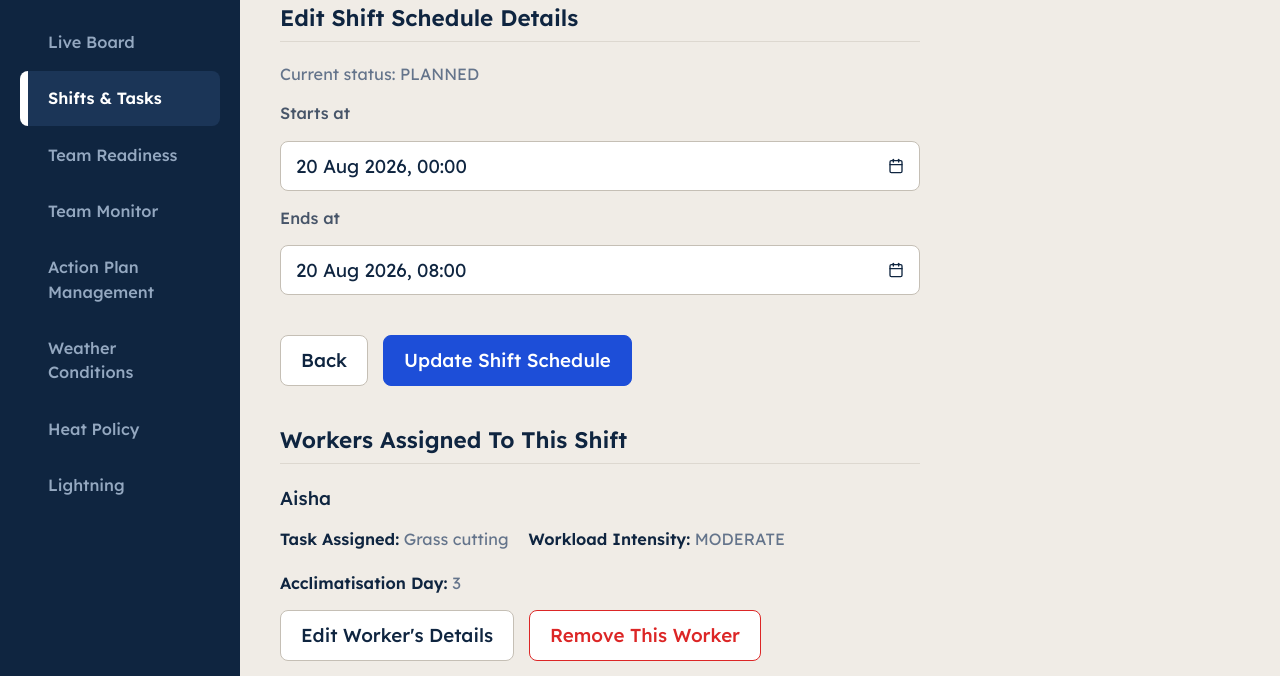
EditShiftForm › edits a row and PATCHes the full trio (task + intensity + accl), never a partial that wipes
Click the button "Edit Worker's Details" at (397, 635), box [280,610,514,660]
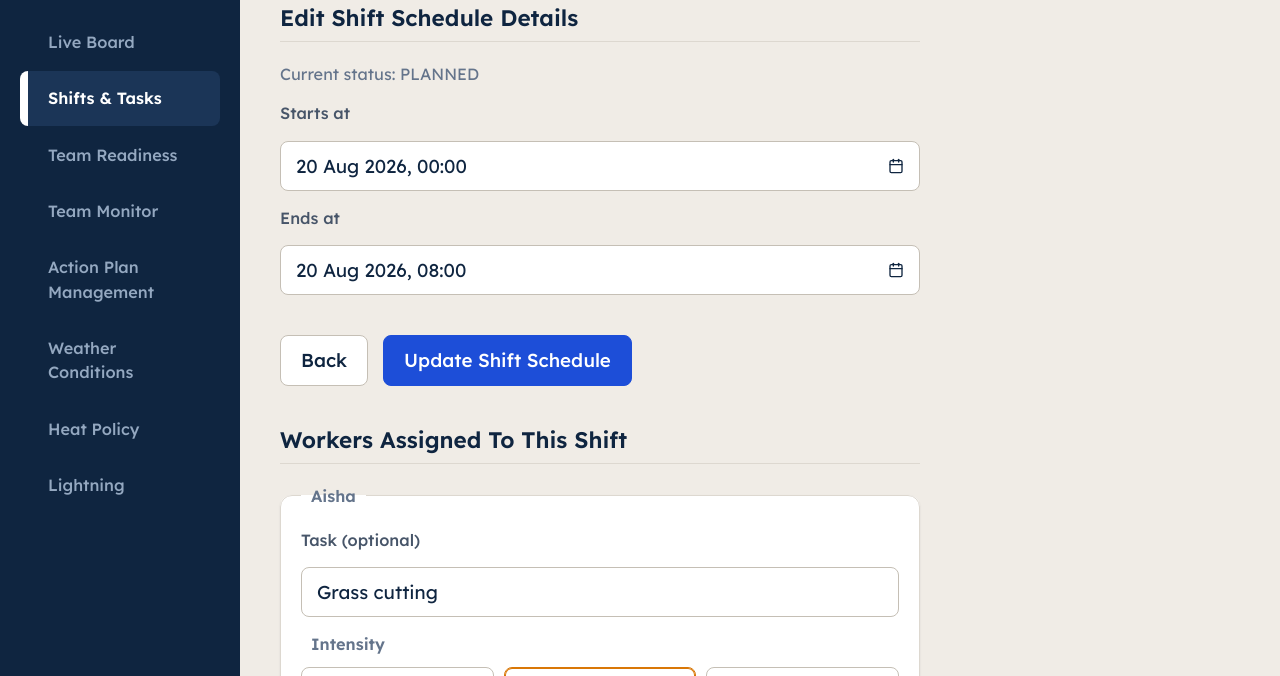
Replace the text in the field labelled "Task (optional)" with "Tree pruning" at (600, 592), box [301,567,899,617]
(page scrolled)
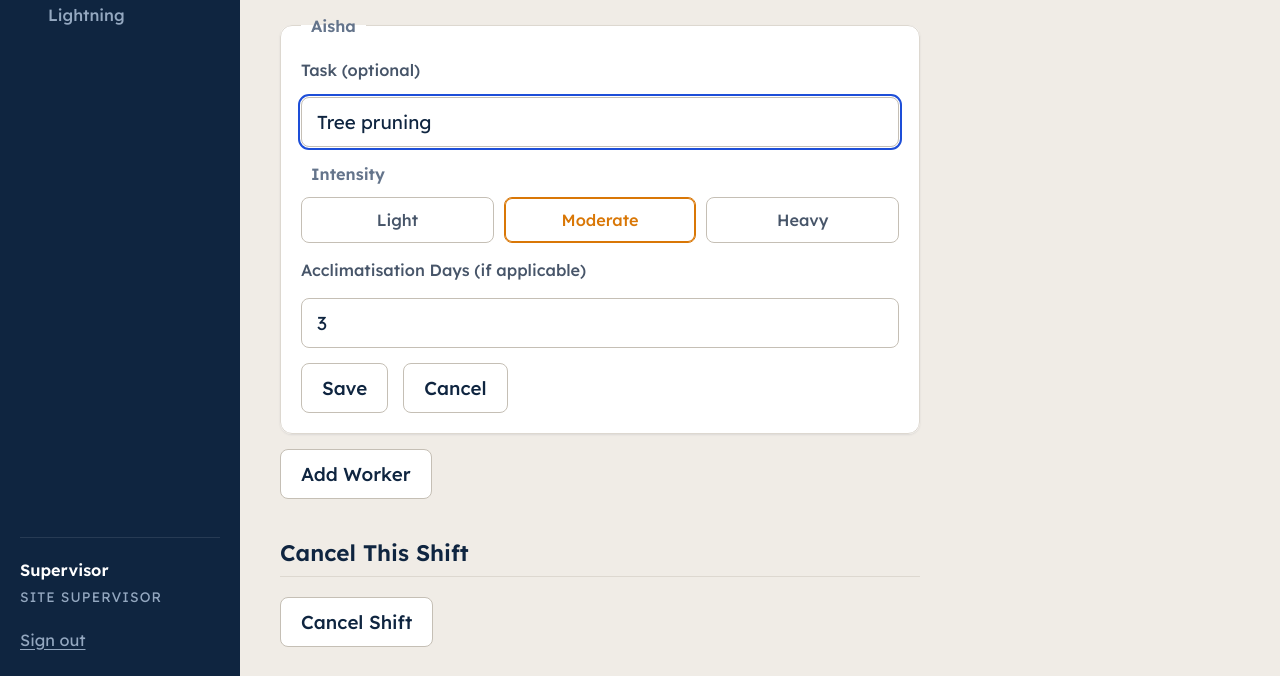
Click the button "Save" at (345, 388), box [301,363,388,413]
(page scrolled)
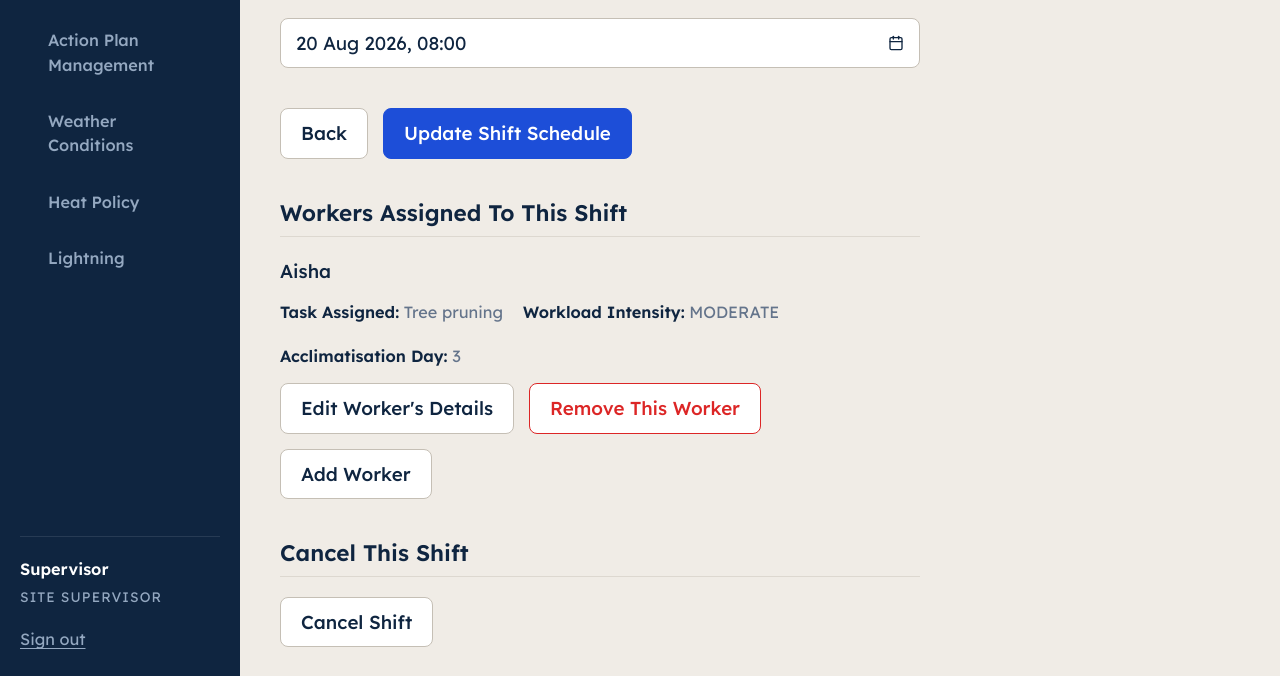
Expected: the text "Task Assigned: Tree pruning" is shown, [280,300,503,324]
